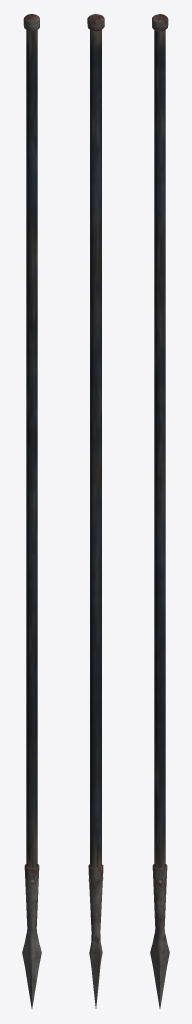
File: weapon-wp_a_0926.glb
3 renders of one model, left to right at view 1: azimuth 90°, elevation 25°; view 2: azimuth 210°, elevation 25°; view 3: azimuth 270°, elevation 25°, orthographic.
Visible parts, largest first — view 1: wp_a_0926_mesh; view 2: wp_a_0926_mesh; view 3: wp_a_0926_mesh.
Part boxes in pixels (x1,y1,x2,y2): wp_a_0926_mesh: (22,14,41,1008); wp_a_0926_mesh: (87,14,104,1008); wp_a_0926_mesh: (150,14,169,1008).
Size of the model in its own units: 0.0483 by 3.03 by 0.0547.
Materials: 1 (1 with a texture image).
